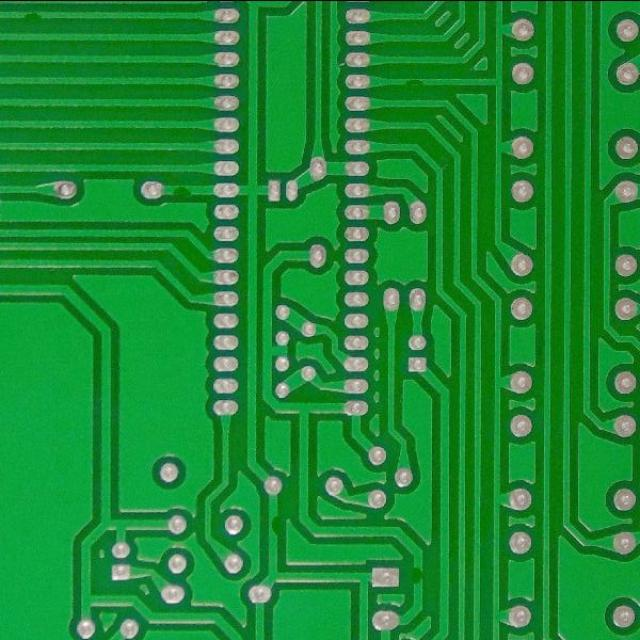MouseBite: (398, 74, 430, 90), (168, 182, 196, 200), (266, 510, 282, 541), (409, 561, 426, 590), (18, 6, 48, 22)
